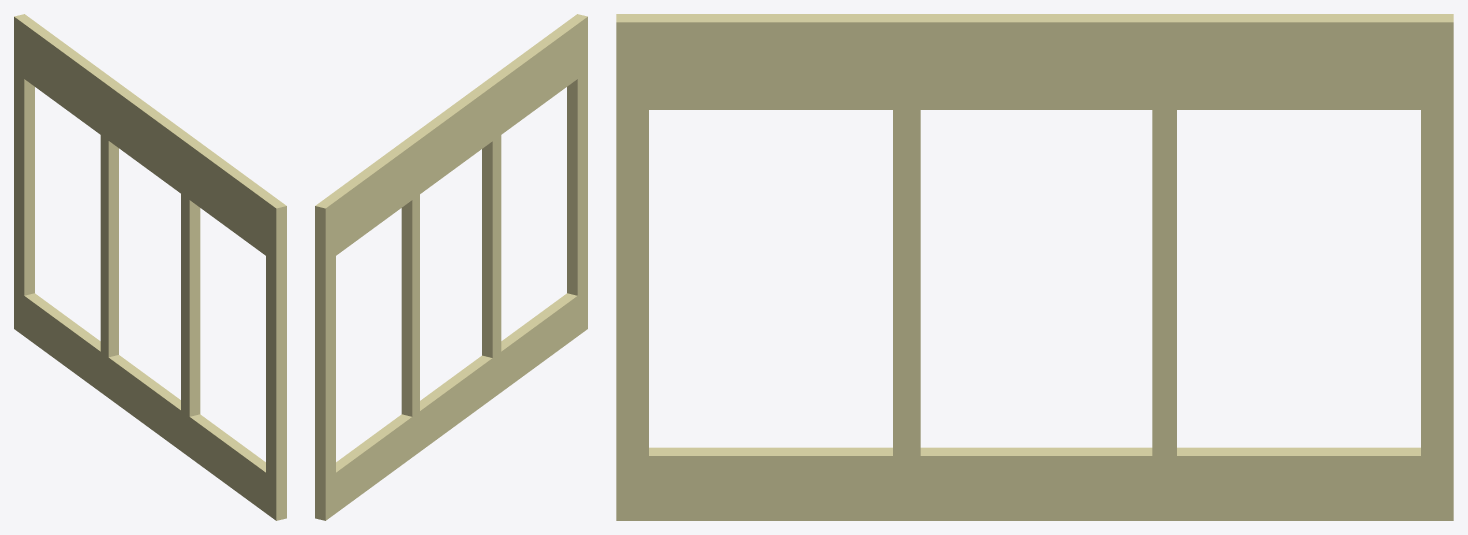
The model's file is wall.fbx.
3 renders of one model, left to right at view 1: azimuth 30°, elevation 25°; view 2: azimuth 150°, elevation 25°; view 3: azimuth 270°, elevation 25°, orthographic. The views are drawn at different scales.
Visible parts, largest first — view 1: pCube3; view 2: pCube3; view 3: pCube3.
Boxes of the visible parts, x1,y1,x2,y2 form: pCube3: [14, 14, 286, 520]; pCube3: [315, 14, 587, 520]; pCube3: [616, 14, 1453, 520].
Size of the model in its own units: 0.2863 by 8.12 by 12.36.
